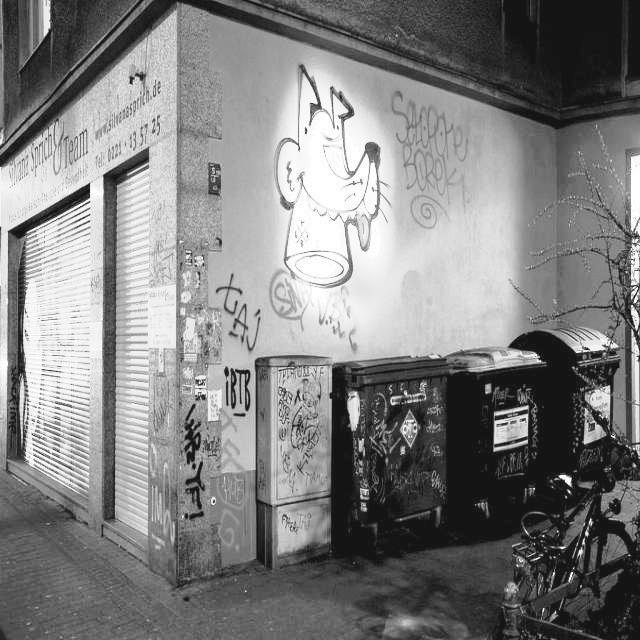Bicycle: (498, 422, 640, 640)
